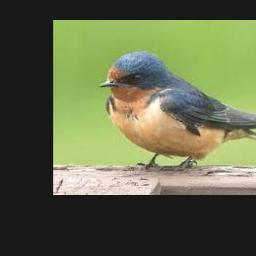Swallow: (99, 51, 256, 167)
